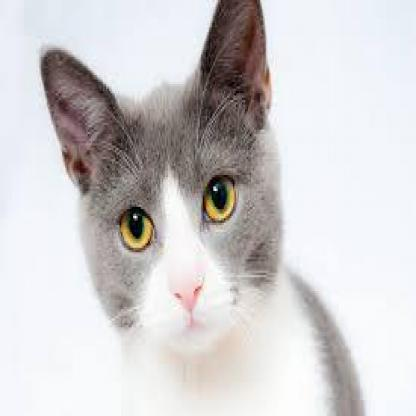gato: (23, 7, 324, 381)
